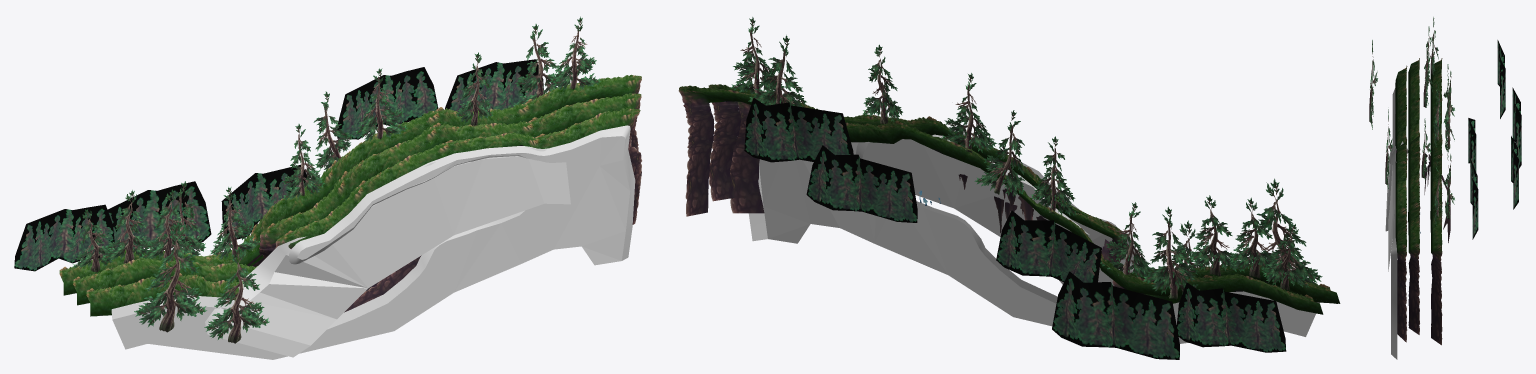
File: Level 5 Crossroads Pt 3.FBX
3 renders of one model, left to right at view 1: azimuth 30°, elevation 25°; view 2: azimuth 150°, elevation 25°; view 3: azimuth 270°, elevation 25°, orthographic. The views are drawn at different scales.
Visible parts, largest first — view 1: Black Pt 3 _1, Black Cave Pt 3, Pine Tree Group Pt 3, Trees pt 3, Ground Pt 3 _3, Ground Pt 3 _3 BG, Ground Pt 3 _3 FG, Trees pt 3 FG, Ground Pt 3 _1, Ground Pt 3 _1 FG, Ground Pt 3 _1 BG, Ground Pt 3 _2 FG; view 2: Pine Tree Group Pt 3, Trees pt 3, Black Pt 3 _1, Ground Pt 3 _3 BG, Black Cave Pt 3, Ground Pt 3 _3, Ground Pt 3 _1 BG, Ground Pt 3 _3 FG, Trees pt 3 FG, Ground Pt 3 _1, Stalagmites Pt 3; view 3: Pine Tree Group Pt 3, Ground Pt 3 _3, Ground Pt 3 _3 BG, Ground Pt 3 _3 FG, Trees pt 3, Black Pt 3 _1, Ground Pt 3 _1, Ground Pt 3 _1 FG, Ground Pt 3 _1 BG, Black Cave Pt 3, Trees pt 3 FG, Dirt BG Pt 3_1.
Part boxes in pixels (left/top/right/bottom): Black Pt 3 _1: left=111, top=125, right=635, bottom=359; Black Cave Pt 3: left=205, top=147, right=570, bottom=357; Pine Tree Group Pt 3: left=14, top=59, right=543, bottom=271; Trees pt 3: left=72, top=16, right=600, bottom=272; Ground Pt 3 _3: left=259, top=93, right=641, bottom=257; Ground Pt 3 _3 BG: left=251, top=74, right=641, bottom=244; Ground Pt 3 _3 FG: left=275, top=108, right=642, bottom=248; Trees pt 3 FG: left=134, top=222, right=269, bottom=343; Ground Pt 3 _1: left=73, top=257, right=257, bottom=305; Ground Pt 3 _1 FG: left=86, top=273, right=243, bottom=316; Ground Pt 3 _1 BG: left=59, top=234, right=263, bottom=295; Ground Pt 3 _2 FG: left=344, top=145, right=522, bottom=312; Pine Tree Group Pt 3: left=744, top=98, right=1286, bottom=359; Trees pt 3: left=730, top=17, right=1308, bottom=299; Black Pt 3 _1: left=748, top=130, right=1319, bottom=343; Ground Pt 3 _3 BG: left=678, top=85, right=1104, bottom=270; Black Cave Pt 3: left=862, top=135, right=1139, bottom=285; Ground Pt 3 _3: left=708, top=84, right=1124, bottom=267; Ground Pt 3 _1 BG: left=1101, top=259, right=1323, bottom=314; Ground Pt 3 _3 FG: left=730, top=91, right=1124, bottom=250; Trees pt 3 FG: left=1171, top=178, right=1322, bottom=284; Ground Pt 3 _1: left=1112, top=263, right=1337, bottom=303; Stalagmites Pt 3: left=958, top=174, right=1046, bottom=232; Pine Tree Group Pt 3: left=1468, top=40, right=1521, bottom=239; Ground Pt 3 _3: left=1408, top=132, right=1420, bottom=334; Ground Pt 3 _3 BG: left=1430, top=134, right=1442, bottom=345; Ground Pt 3 _3 FG: left=1395, top=139, right=1407, bottom=342; Trees pt 3: left=1421, top=17, right=1454, bottom=225; Black Pt 3 _1: left=1391, top=88, right=1397, bottom=359; Ground Pt 3 _1: left=1408, top=58, right=1419, bottom=187; Ground Pt 3 _1 FG: left=1395, top=65, right=1407, bottom=199; Ground Pt 3 _1 BG: left=1430, top=58, right=1442, bottom=147; Black Cave Pt 3: left=1385, top=141, right=1408, bottom=271; Trees pt 3 FG: left=1369, top=40, right=1392, bottom=188; Dirt BG Pt 3_1: left=1428, top=154, right=1450, bottom=242.
Size of what is drawn, in the model's own units: 6044 by 1612 by 2385.
